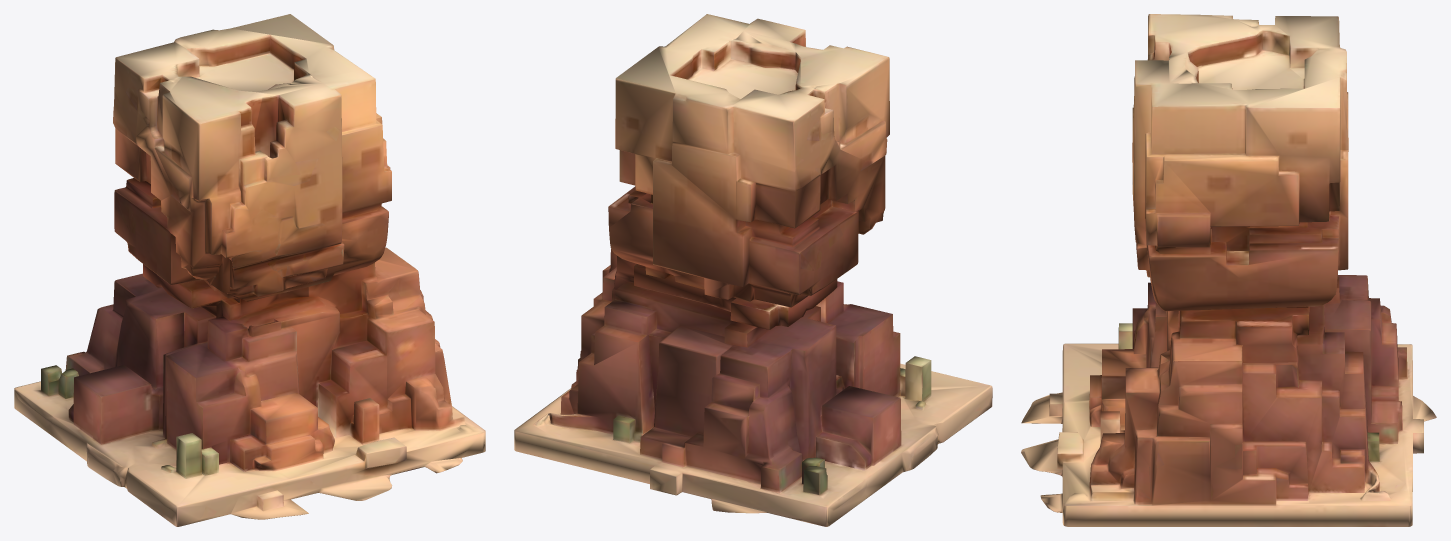
File: rock_c.glb
The picture shows the model from 3 angles, left to right: view 1: azimuth 30°, elevation 25°; view 2: azimuth 150°, elevation 25°; view 3: azimuth 270°, elevation 25°; orthographic projection. The views are drawn at different scales.
Visible parts, largest first — view 1: node_0; view 2: node_0; view 3: node_0.
Boxes of the visible parts, x1,y1,x2,y2 form: node_0: (14, 14, 485, 526); node_0: (514, 14, 992, 526); node_0: (1021, 14, 1436, 526).
Size of the model in its own units: 0.6882 by 0.7481 by 0.7338.
Materials: 1 (1 with a texture image).
